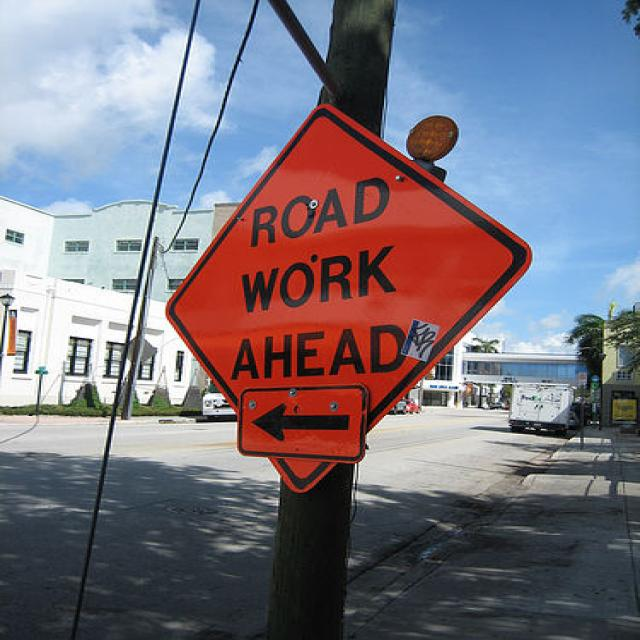Vehicle: (509, 382, 574, 435), (200, 380, 239, 419), (387, 399, 408, 417), (404, 398, 421, 413), (488, 401, 506, 410)
